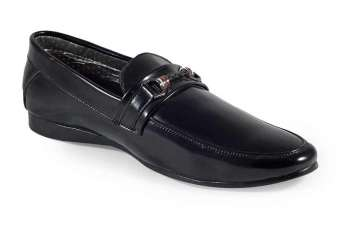Footwear: (20, 27, 322, 193)
